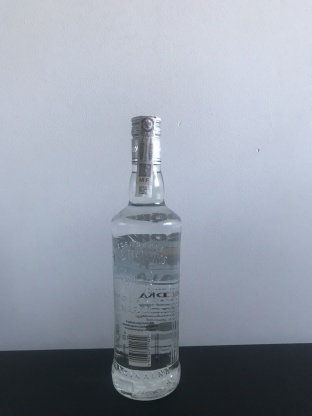nakretka: (128, 112, 163, 167)
